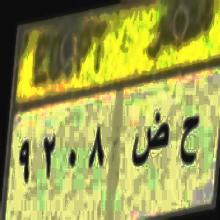0: (65, 140, 82, 181)
2: (39, 126, 60, 190)
7aa: (178, 106, 203, 178)
8: (86, 113, 108, 182)
9: (19, 130, 34, 191)
daad: (133, 99, 169, 181)
